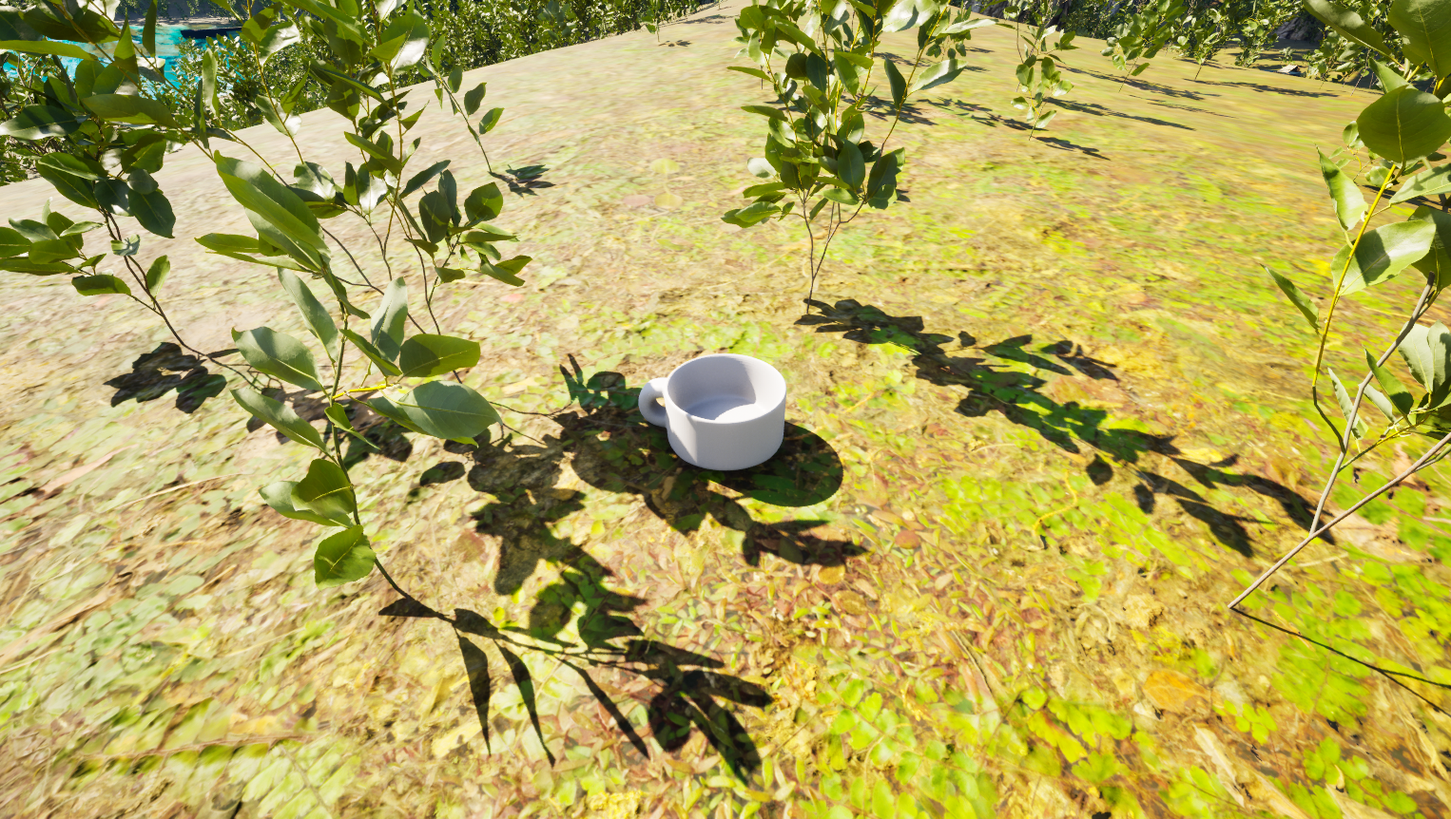Teacup: (627, 335, 812, 490)
